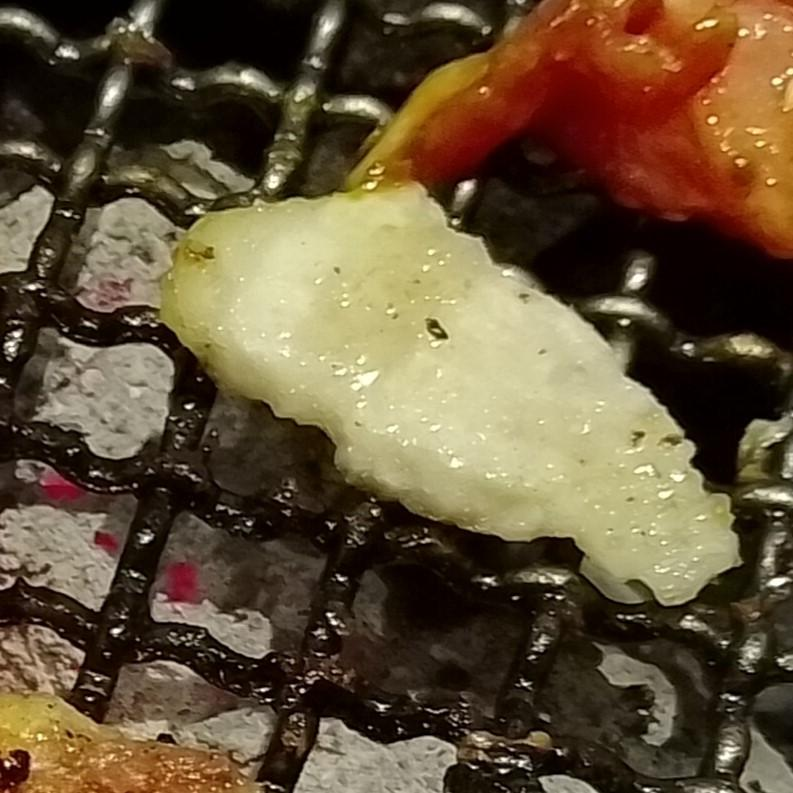Undercooked: (160, 183, 734, 610), (400, 0, 792, 261)
